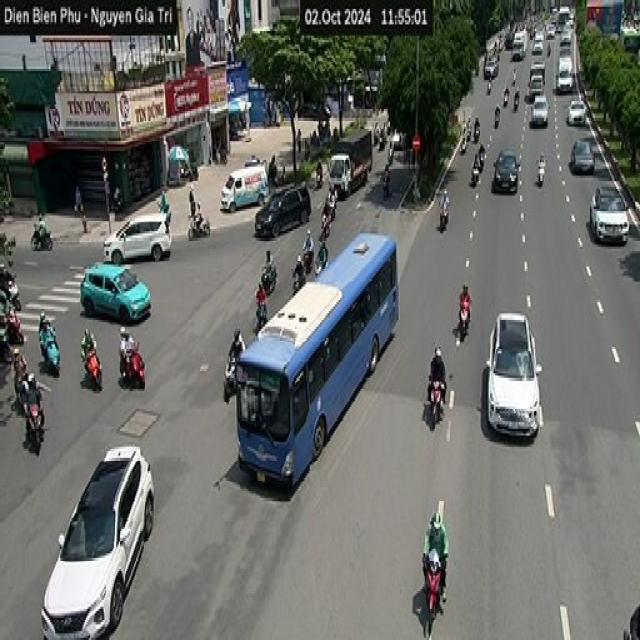bus: (234, 229, 398, 489)
car: (40, 444, 154, 638), (485, 311, 544, 438), (80, 260, 151, 322), (102, 211, 172, 265), (589, 184, 629, 244), (491, 149, 520, 193), (570, 138, 595, 173)
container-truck: (327, 124, 372, 196)
motorcycle: (426, 373, 445, 429), (455, 304, 470, 346)
person: (421, 511, 449, 602), (428, 344, 447, 404), (458, 282, 472, 334), (255, 282, 267, 327), (439, 189, 450, 231)
